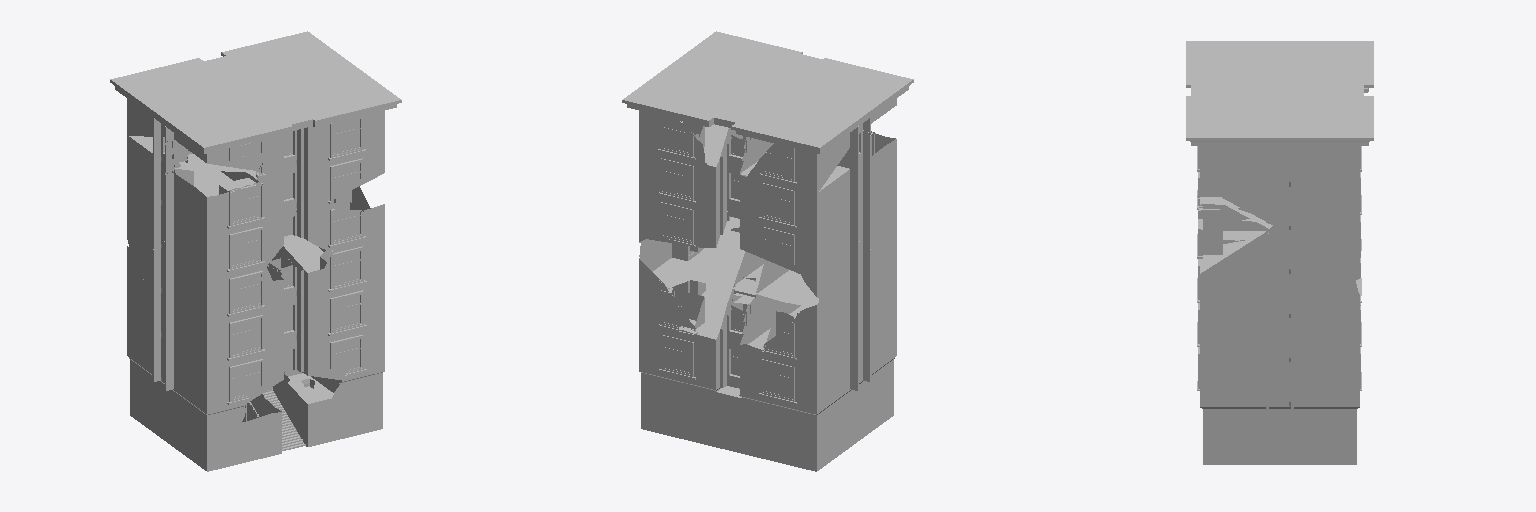
File: Building 5.obj
The picture shows the model from 3 angles: view 1: azimuth 30°, elevation 25°; view 2: azimuth 150°, elevation 25°; view 3: azimuth 270°, elevation 25°; orthographic projection.
Parts seen in each view (by area): view 1: bina2; view 2: bina2; view 3: bina2.
Part boxes in pixels (x1,y1,x2,y2): bina2: (110, 31, 401, 471); bina2: (622, 31, 913, 471); bina2: (1186, 41, 1373, 464).
Size of the model in its own units: 5.26 by 8.47 by 4.32.